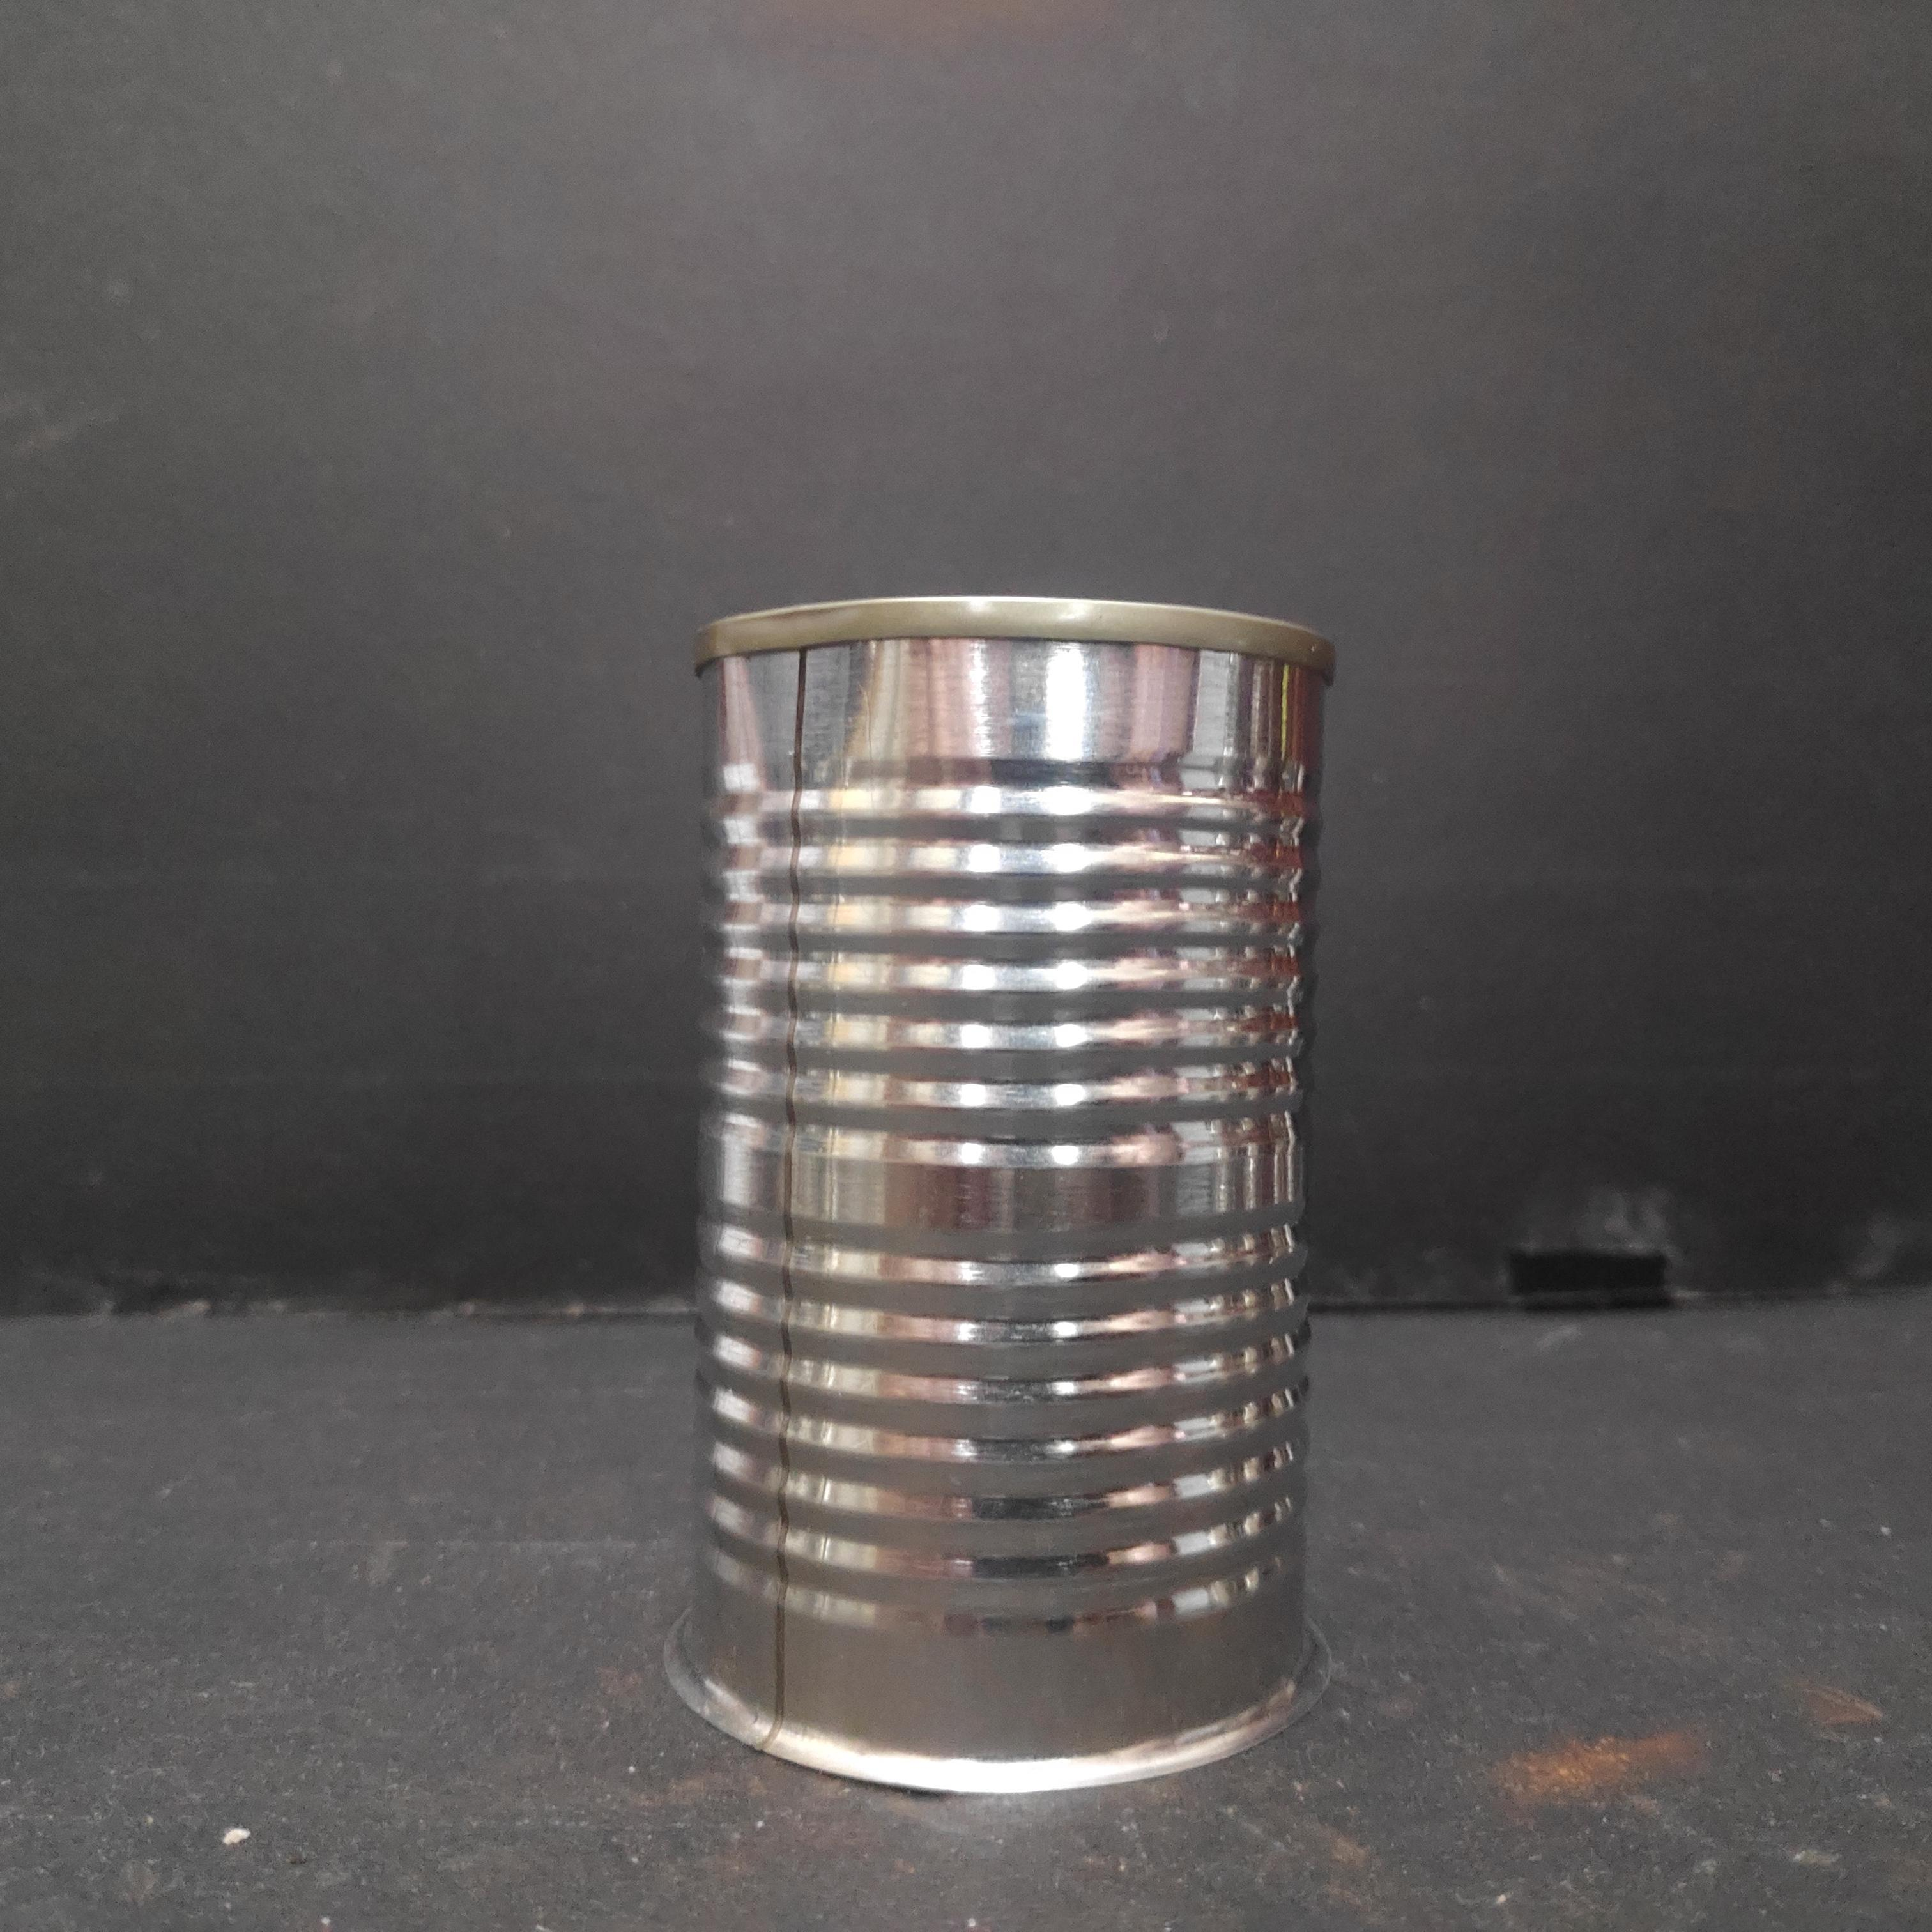Minor Defect: (662, 586, 1350, 1805)
